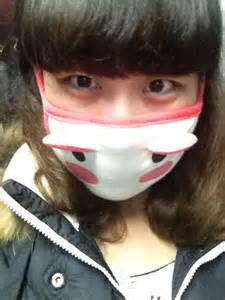OK: (48, 61, 189, 202)
